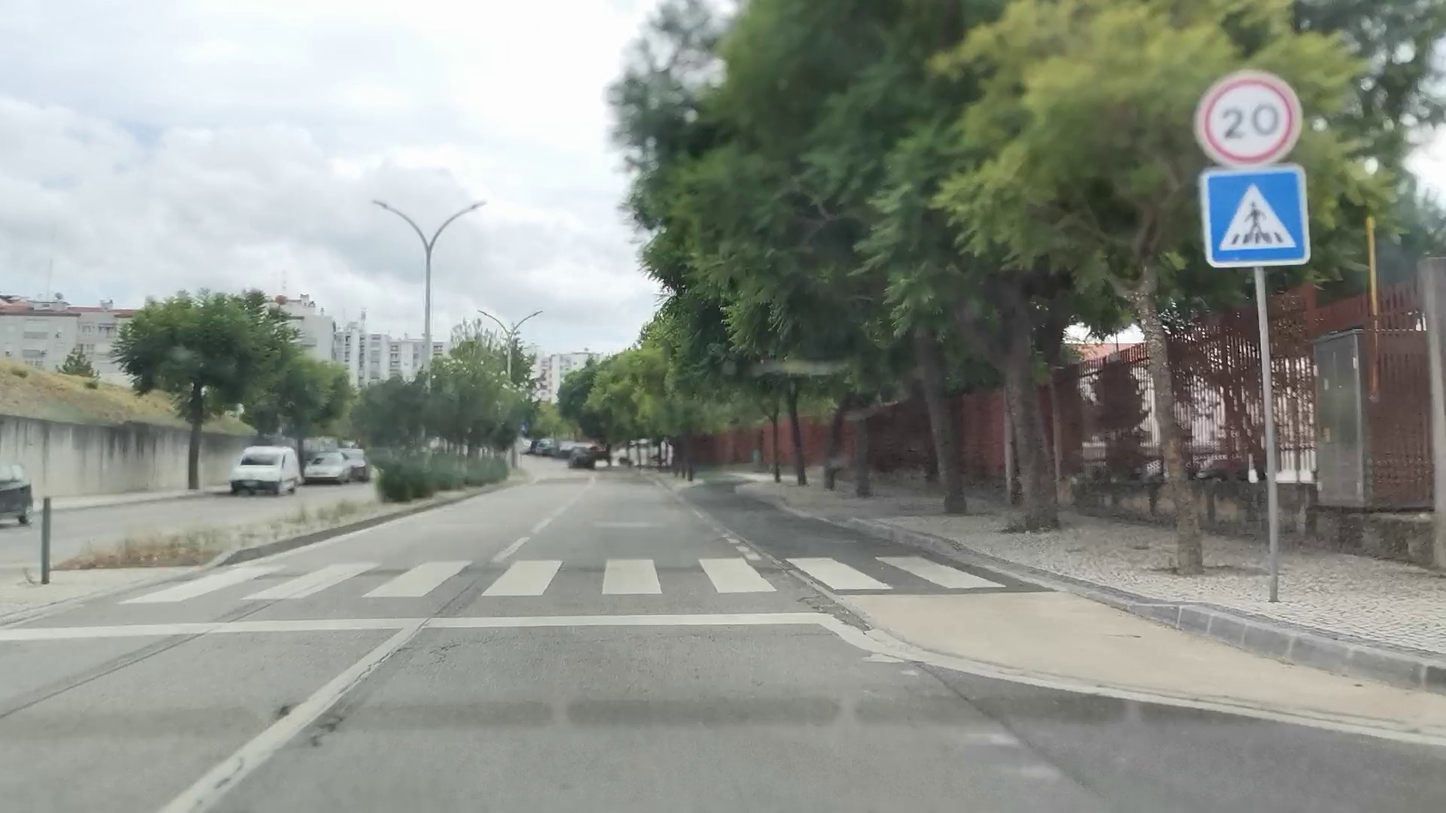Stairs: (123, 550, 1007, 605)
